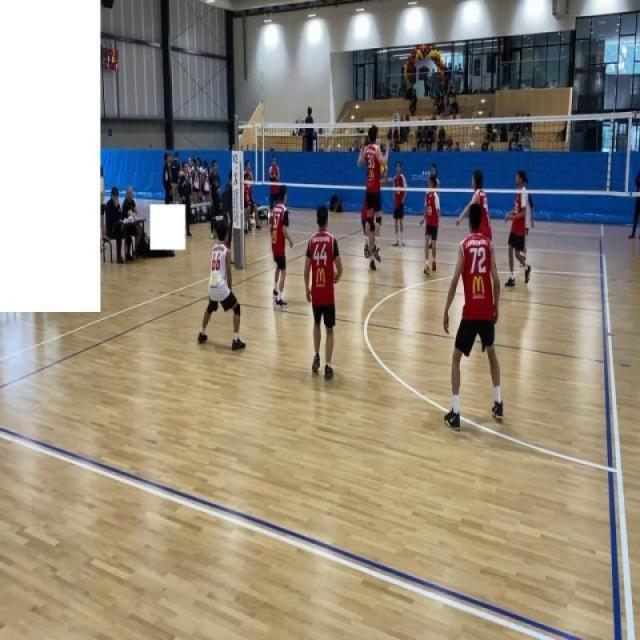volleyball: (379, 162, 389, 178), (301, 116, 305, 123)
